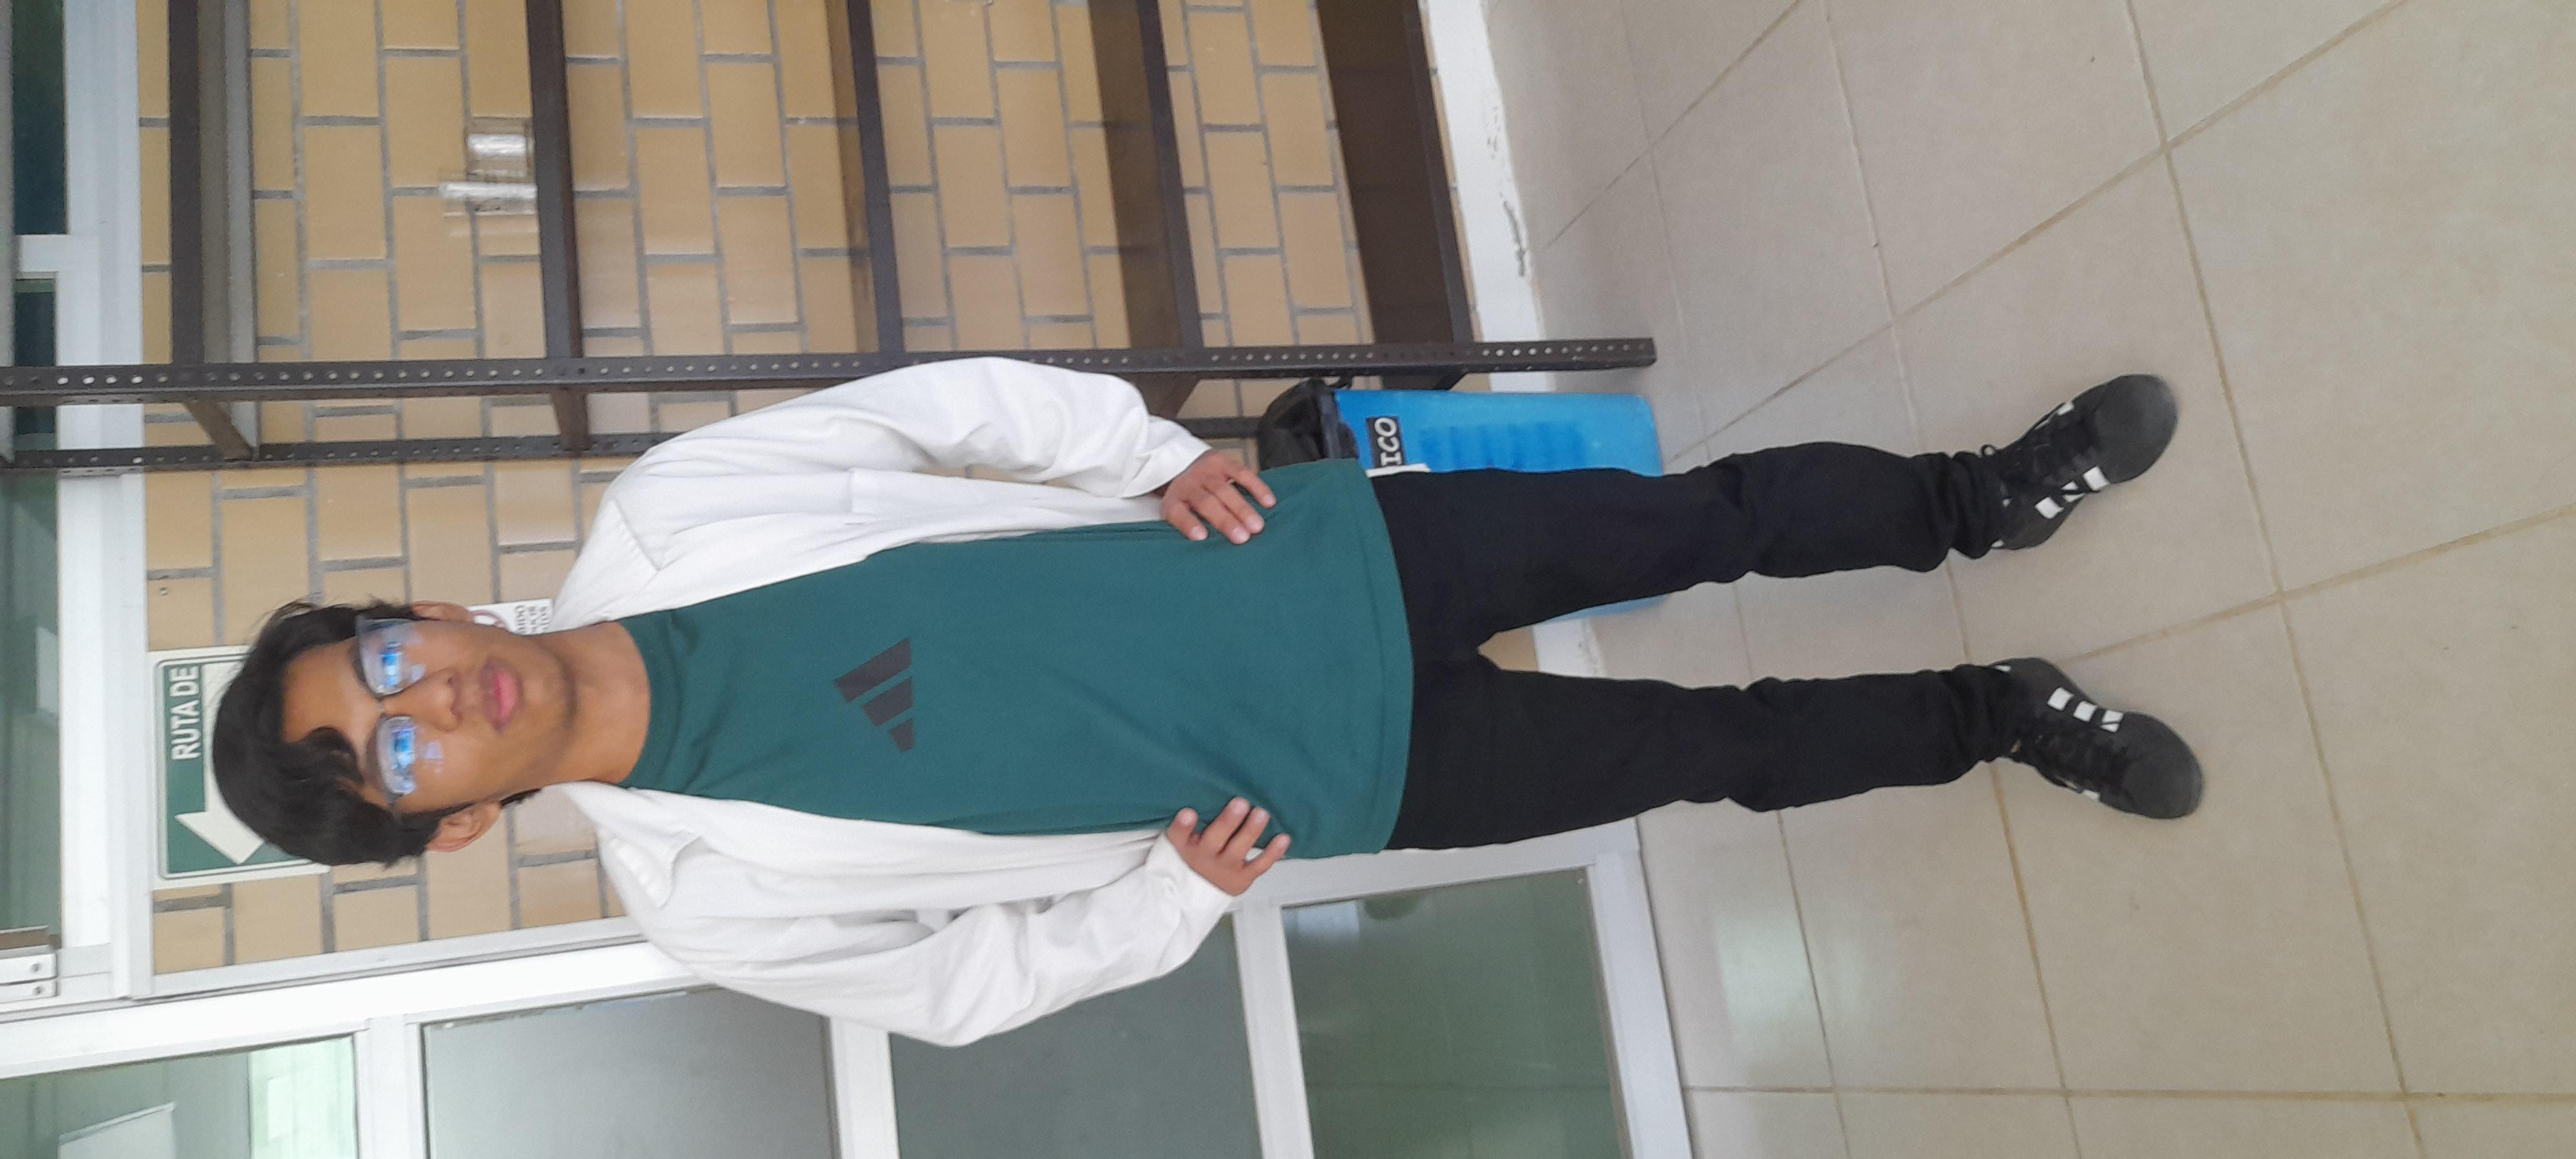Bata-Incorrecta: (143, 90, 2004, 1005)
